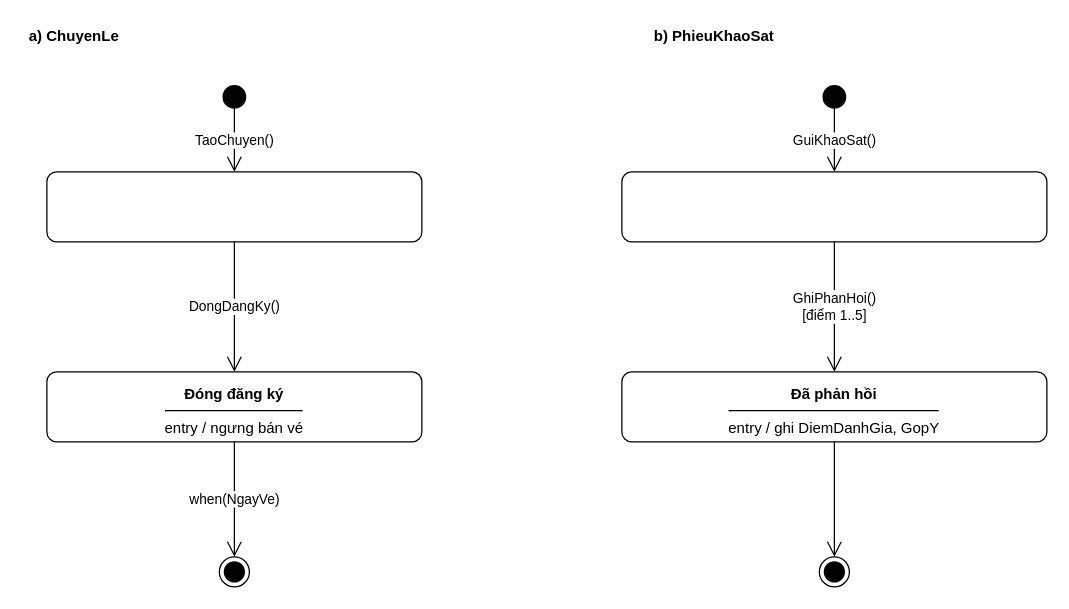
Some shapes in this 1069 by 609 pixel diagram are drawn without their labels. The shapes that lost their labels are listed below. From the top down, each one's centre as x and y in pixels, then its label:
At (x=234, y=206): "Mở đăng ký do / bán vé cho khách lẻ".
At (x=834, y=206): "Đã gửi entry / NgayGui > ngày kết thúc tour".
